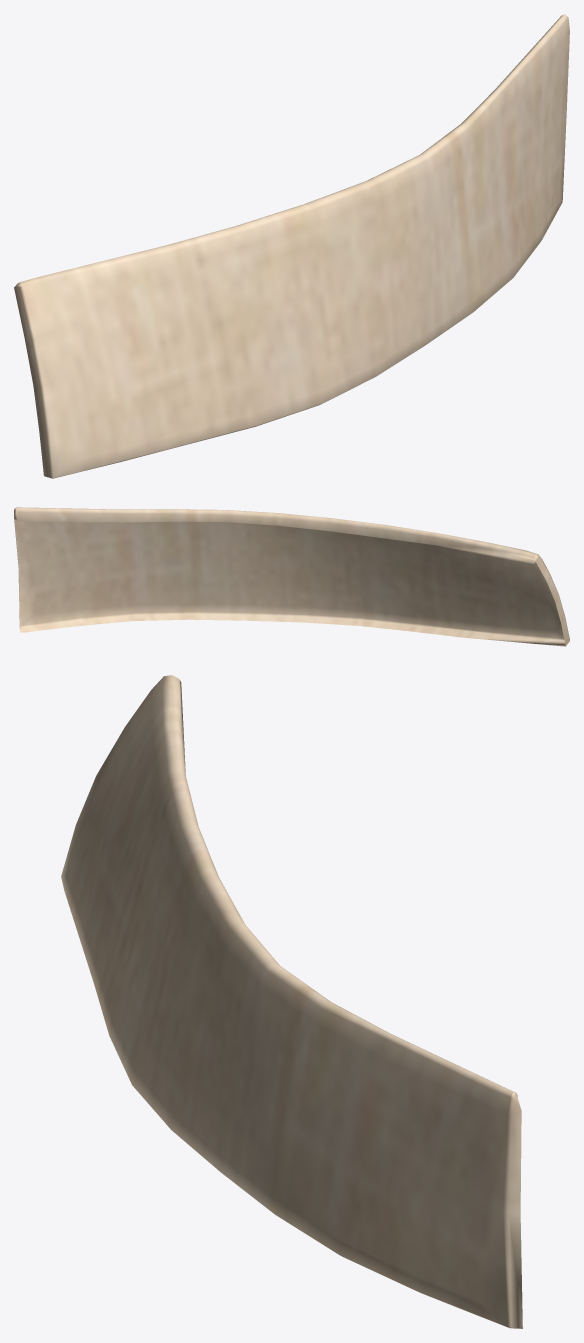
File: upper_Normal_pocket_n.glb
3 views of the same model, one above another, from view 1: azimuth 30°, elevation 25°; view 2: azimuth 150°, elevation 25°; view 3: azimuth 270°, elevation 25° (orthographic). The views are drawn at different scales.
Visible parts, largest first — view 1: upper_Normal_pocket; view 2: upper_Normal_pocket; view 3: upper_Normal_pocket.
Part boxes in pixels (box(x1,y1,x2,y2)): upper_Normal_pocket: box(14, 14, 569, 478); upper_Normal_pocket: box(14, 507, 569, 646); upper_Normal_pocket: box(61, 675, 522, 1328).
Size of the model in its own units: 0.0125 by 0.00332 by 0.00563.
Materials: 1 (1 with a texture image).
